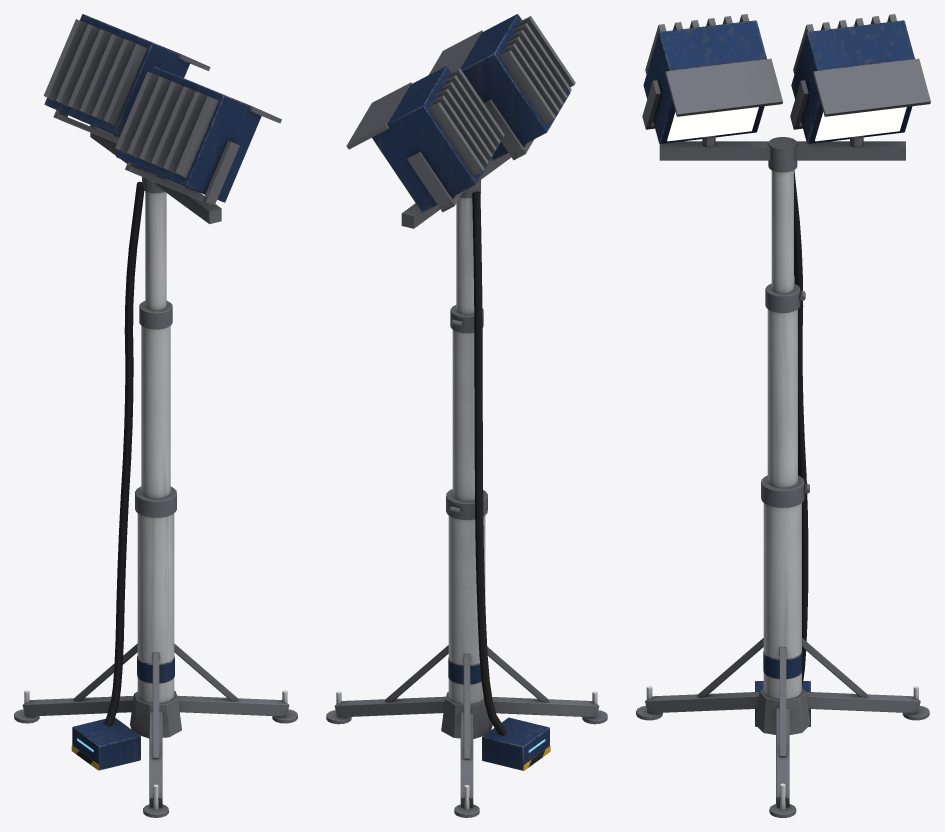
The model's file is 整備庫_33_照明塔B.glb.
3 views of the same model, side by side, from view 1: azimuth 30°, elevation 25°; view 2: azimuth 150°, elevation 25°; view 3: azimuth 270°, elevation 25° (orthographic). The views are drawn at different scales.
Visible parts, largest first — view 1: Light_b_Mesh; view 2: Light_b_Mesh; view 3: Light_b_Mesh.
Part boxes in pixels (x1,y1,x2,y2): Light_b_Mesh: [14, 14, 297, 817]; Light_b_Mesh: [326, 14, 607, 817]; Light_b_Mesh: [636, 14, 930, 817].
Size of the model in its own units: 4.59 by 14.2 by 5.27.
Materials: 3 (1 with a texture image).
